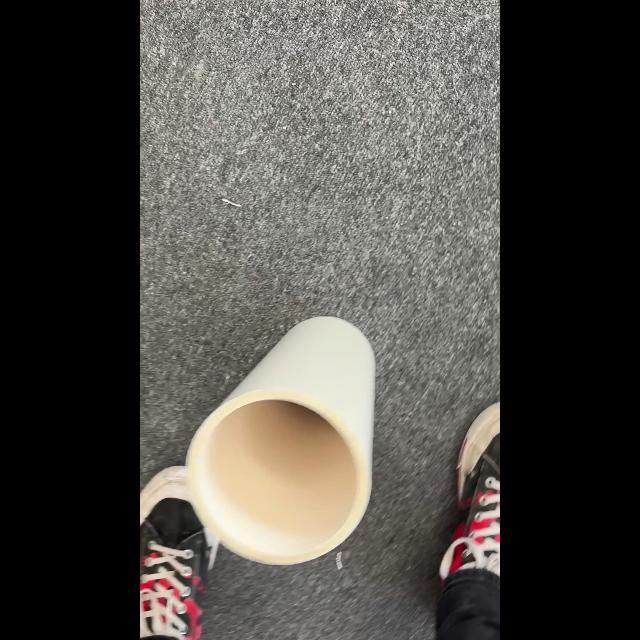CORAL: (184, 314, 376, 566)
